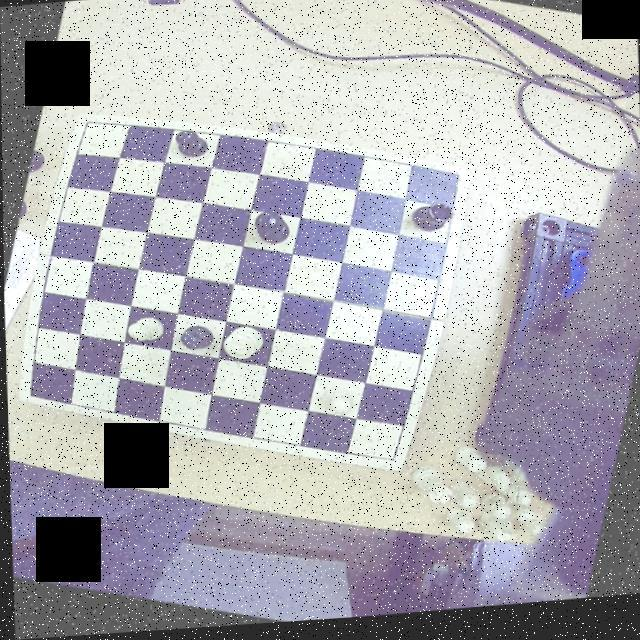chess-table-corners: (439, 168, 468, 198), (16, 382, 46, 406), (378, 448, 404, 475), (72, 114, 98, 138)
